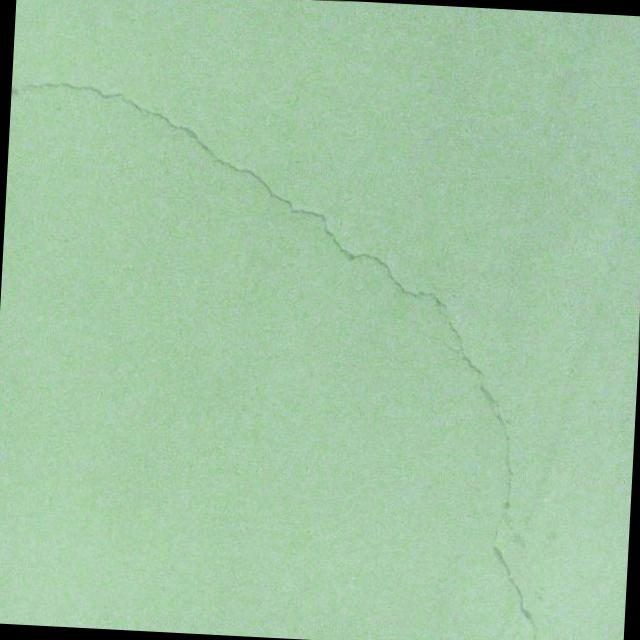crack: (0, 71, 590, 640), (611, 402, 636, 444)
